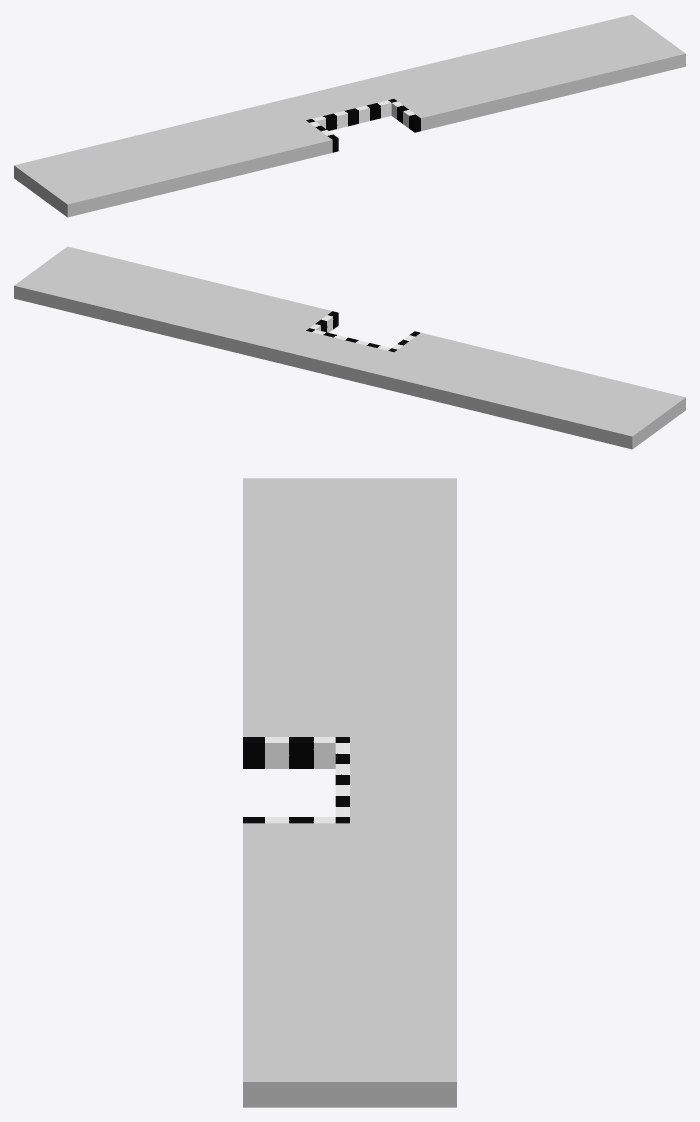
3 views of the same model, one above another, from view 1: azimuth 30°, elevation 25°; view 2: azimuth 150°, elevation 25°; view 3: azimuth 270°, elevation 25° (orthographic). The views are drawn at different scales.
Visible parts, largest first — view 1: road; view 2: road; view 3: road.
Boxes of the visible parts, <box> form: road: <box>14,14,685,217</box>; road: <box>14,246,685,449</box>; road: <box>243,478,456,1107</box>.
Size of what is drawn, in the model's own units: 5000 by 100 by 750.
